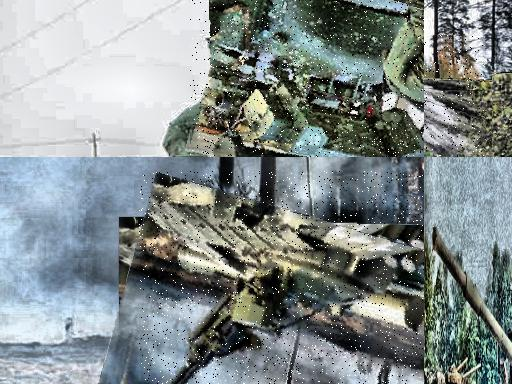tanks: (140, 172, 425, 384), (191, 1, 425, 158), (434, 229, 512, 384), (446, 359, 478, 384), (511, 290, 512, 305)
